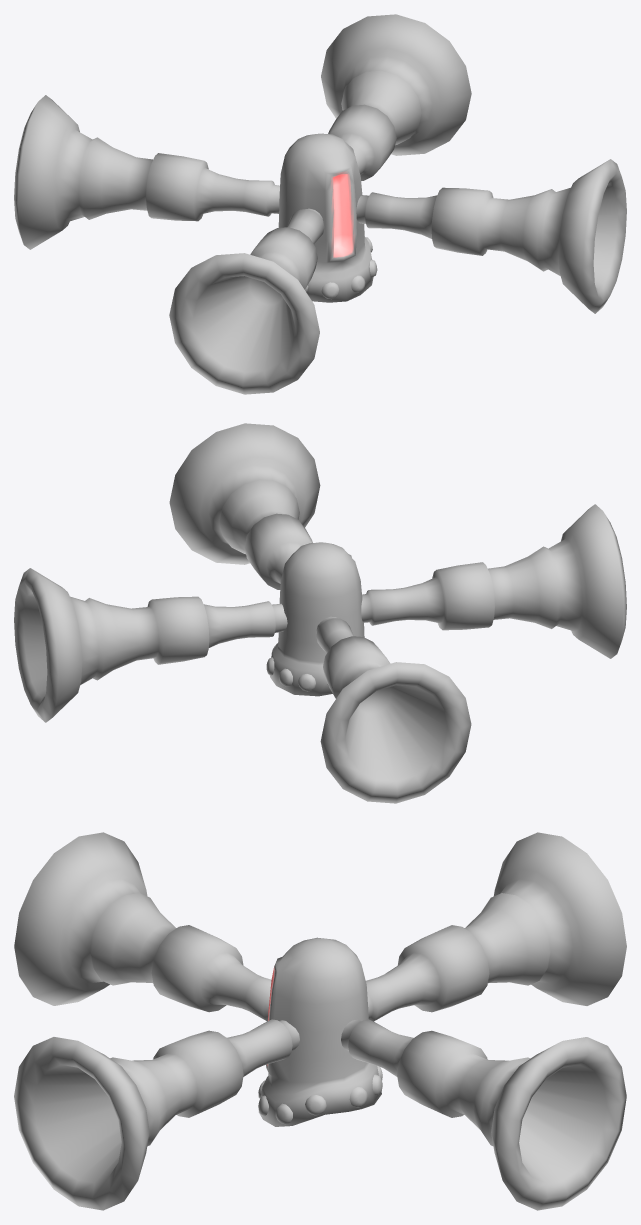
The model's file is siren_p1.fbx.
3 views of the same model, one above another, from view 1: azimuth 30°, elevation 25°; view 2: azimuth 150°, elevation 25°; view 3: azimuth 270°, elevation 25° (orthographic). The views are drawn at different scales.
Visible parts, largest first — view 1: hero2_mesh.003; view 2: hero2_mesh.003; view 3: hero2_mesh.003.
Boxes of the visible parts, <box> form: hero2_mesh.003: <box>14,14,626,394</box>; hero2_mesh.003: <box>14,423,626,803</box>; hero2_mesh.003: <box>14,832,626,1210</box>.
Bounding box in the file's own units: 239 × 74.85 × 239.
